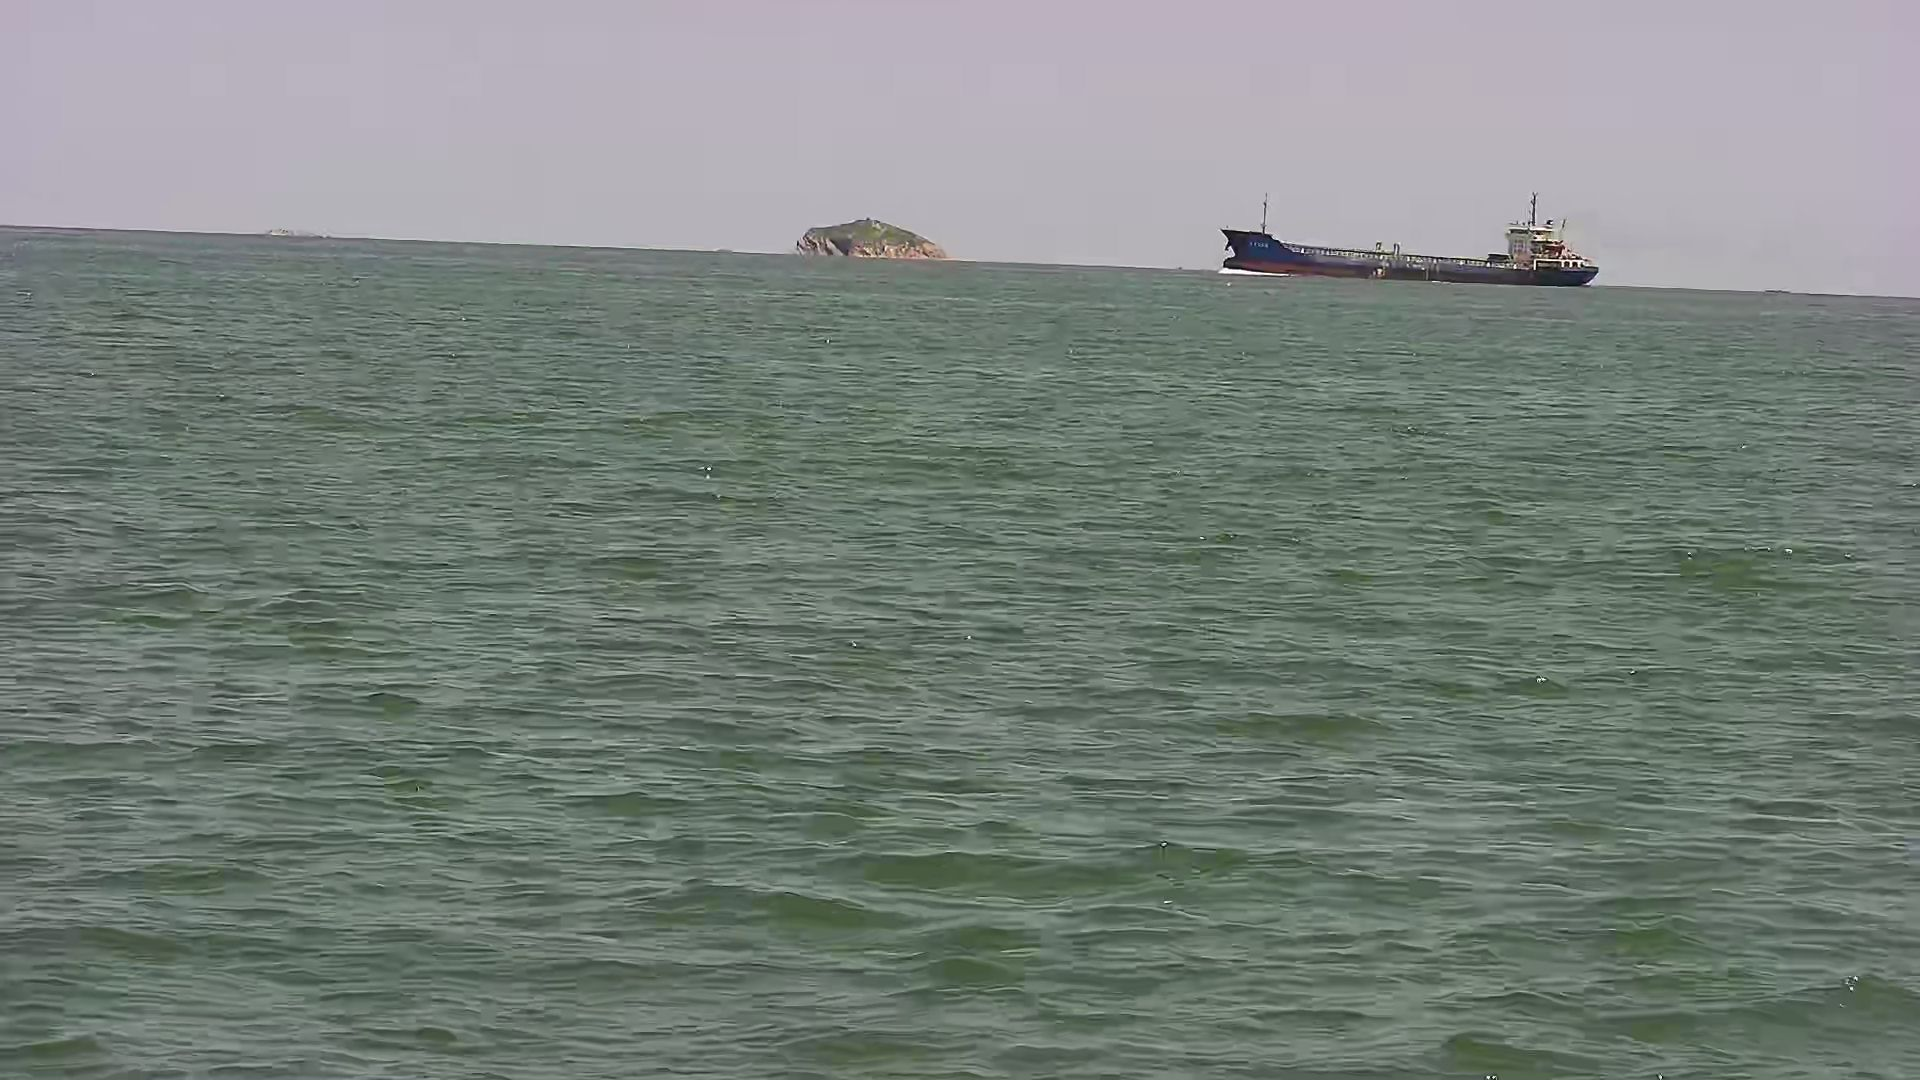rock: (796, 215, 942, 262)
ship: (1221, 193, 1609, 291)
